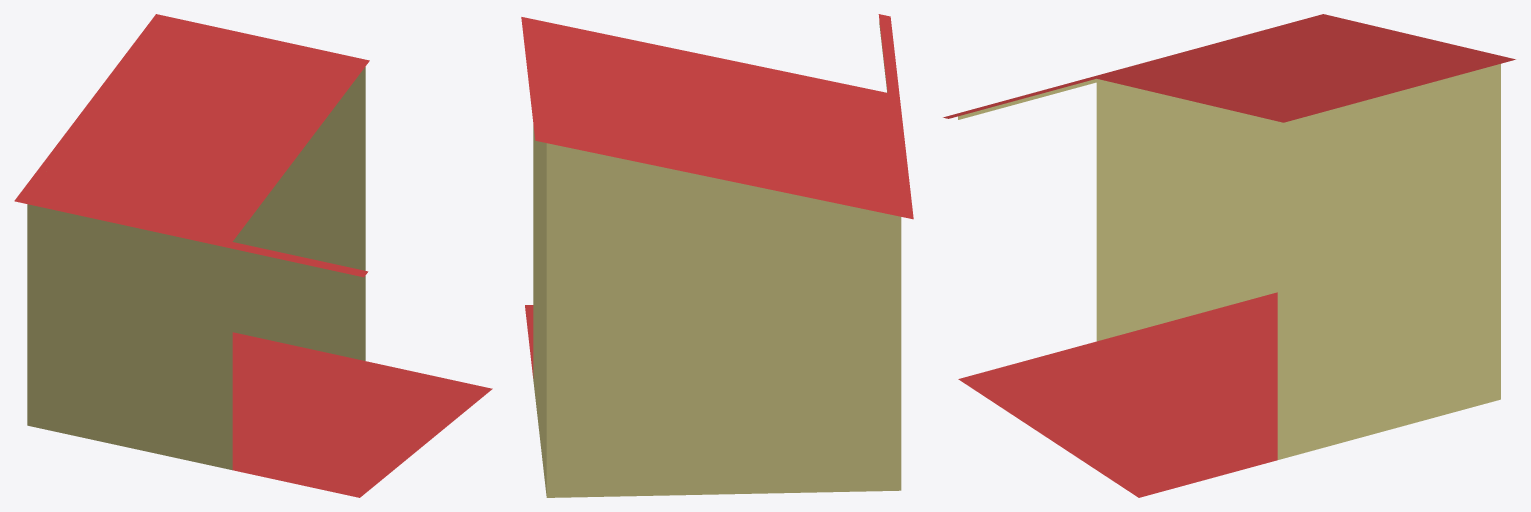
The picture shows the model from 3 angles, left to right: view 1: azimuth 30°, elevation 25°; view 2: azimuth 150°, elevation 25°; view 3: azimuth 270°, elevation 25°; orthographic projection. The views are drawn at different scales.
Bounding box in the file's own units: 11.75 × 12.73 × 8.36.
